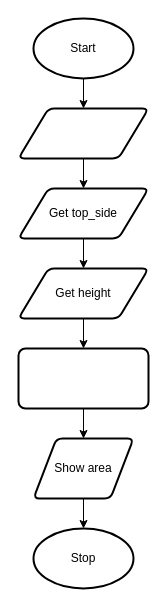
Image size: 166x606. Some labels were removed from this diagram. The shapes that lost their labels are listed below. From the top down, each one's centre as x and y in pixels, then its label:
At pixel 83 133: "Get bottom_side".
At pixel 83 378: "area = (((bottom_side + top_side) / 2 ) * height)".
